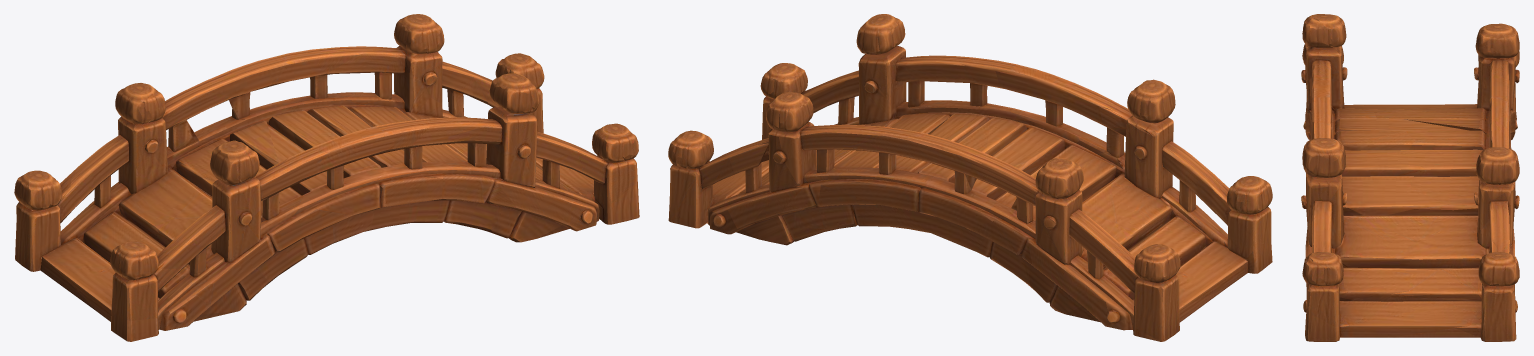
File: timber-bridge.glb
3 renders of one model, left to right at view 1: azimuth 30°, elevation 25°; view 2: azimuth 150°, elevation 25°; view 3: azimuth 270°, elevation 25°, orthographic. The views are drawn at different scales.
Visible parts, largest first — view 1: output_unwrapped; view 2: output_unwrapped; view 3: output_unwrapped.
Boxes of the visible parts, box(x1,y1,x2,y2) form: output_unwrapped: box(14, 14, 639, 341); output_unwrapped: box(668, 14, 1272, 341); output_unwrapped: box(1301, 14, 1519, 341).
Bounding box in the file's own units: 1.9 × 0.5698 × 0.7618.
1 material, 1 textured.
